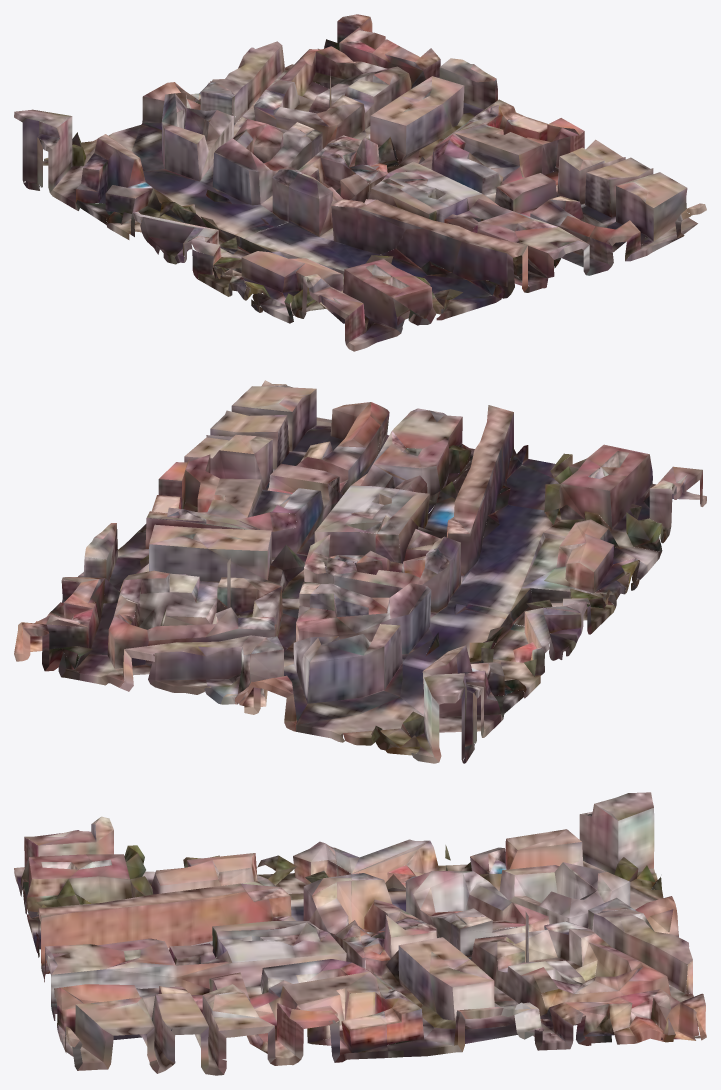
The picture shows the model from 3 angles, top to bottom: view 1: azimuth 30°, elevation 25°; view 2: azimuth 150°, elevation 25°; view 3: azimuth 270°, elevation 25°; orthographic projection. The views are drawn at different scales.
Visible parts, largest first — view 1: Mesh_0; view 2: Mesh_0; view 3: Mesh_0.
Boxes of the visible parts, bbox=[...] form: Mesh_0: bbox=[14, 14, 706, 351]; Mesh_0: bbox=[14, 380, 706, 763]; Mesh_0: bbox=[14, 792, 706, 1075].
Size of the model in its own units: 267 by 53.14 by 330.
2 materials, 2 textured.
